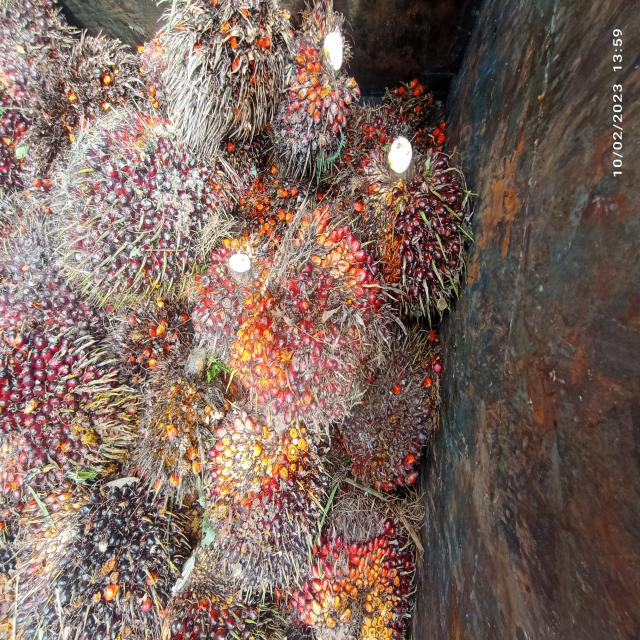fraksi 00: (14, 464, 182, 640), (350, 120, 477, 332)
fraksi 1: (40, 109, 231, 308), (0, 297, 123, 523), (204, 396, 320, 588), (343, 306, 440, 498)
fraksi 3: (194, 180, 378, 428), (289, 489, 416, 640)
fraksi 4: (279, 0, 362, 161)
